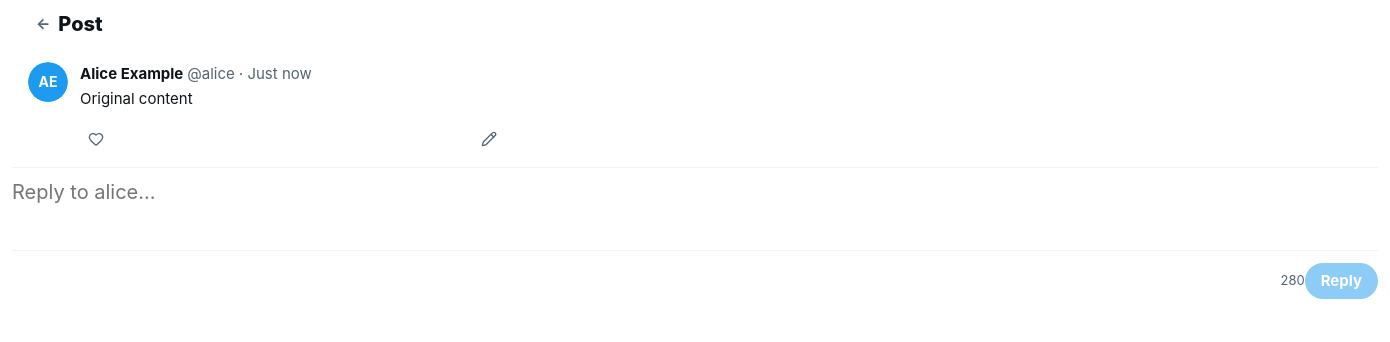
Scenario: DirectPostPage › cancels edit mode
Click the button with test id "post-edit-button-123" at (489, 138), box 473,122 -> 505,154
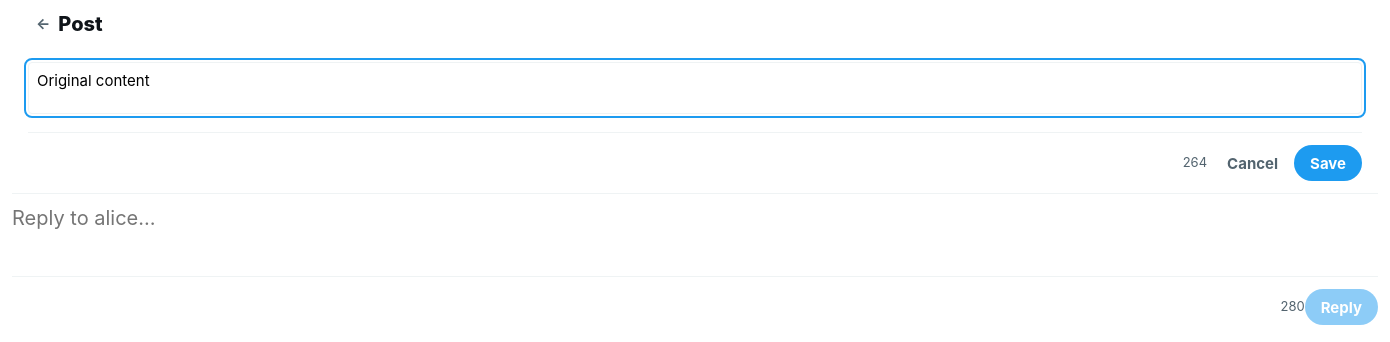
Now the text box with test id "post-editor-body-input-123" is shown, box 28,62 -> 1362,114
Click the button "Cancel" at (1253, 163), box 1219,145 -> 1286,181
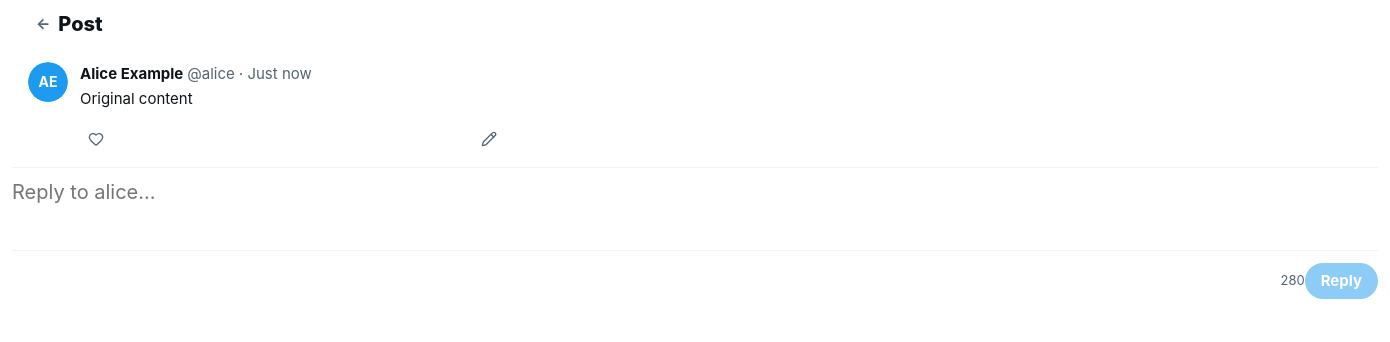
Now the text box with test id "post-editor-body-input-123" is gone
Now the text "Original content" is shown, box 80,89 -> 193,108
